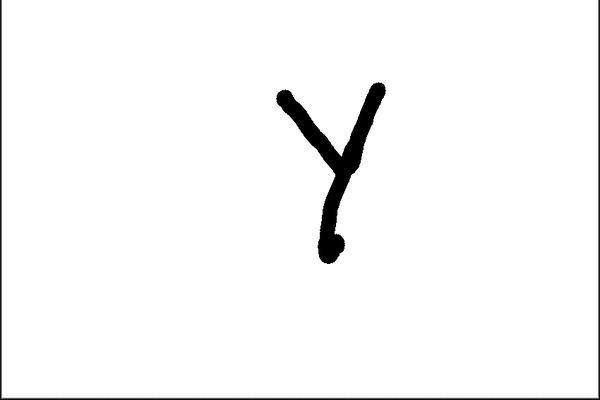Y: (256, 73, 404, 310)
